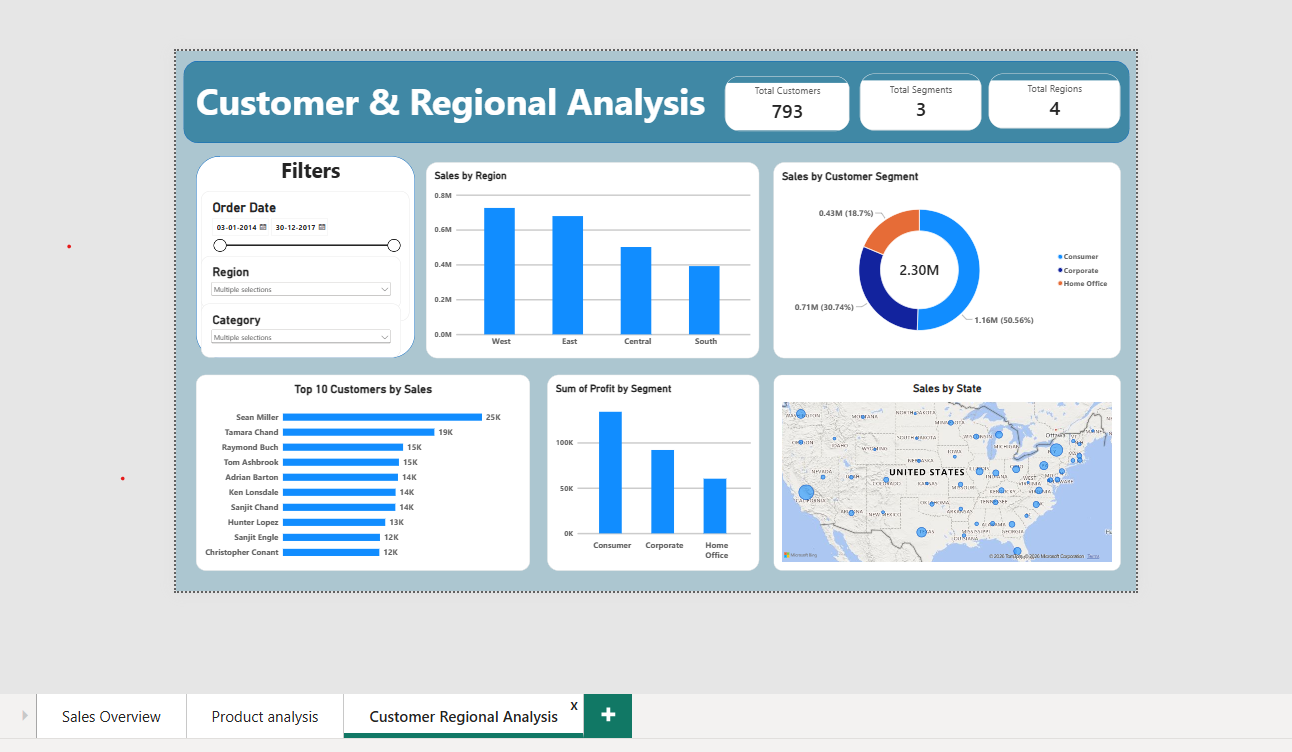

Layout of this report page (visuals, bound fields, positions):
{"tool":"powerbi","page":{"name":"Customer  Regional Analysis","canvas":[1920,1080],"ordinal":2},"visuals":[{"type":"shape","box":[40,210,438,404],"z":0,"group":"g2"},{"type":"shape","box":[14,20,1892,164],"z":1,"group":"g1"},{"type":"textbox","box":[40,50,1058,114],"z":2,"group":"g1"},{"type":"textbox","box":[10,0,280,280],"z":1000},{"type":"group","id":"g1","title":"Group 1","box":[14,20,1892,164],"z":2000},{"type":"cardVisual","fields":{"Data":["Count(Sample - Superstore.Customer ID)"]},"box":[1098,50,250,110],"z":3000},{"type":"cardVisual","fields":{"Data":["Count(Sample - Superstore.Region)"]},"box":[1626,46,264,110],"z":4000},{"type":"cardVisual","fields":{"Data":["Count(Sample - Superstore.Segment)"]},"box":[1368,46,244,114],"z":5000},{"type":"clusteredBarChart","title":"Top 10 Customers by Sales","fields":{"Category":["Sample - Superstore.Customer Name"],"Y":["Sum(Sample - Superstore.Sales)"]},"box":[40,648,668,392],"z":6000},{"type":"donutChart","title":"Sales by Customer Segment","fields":{"Category":["Sample - Superstore.Segment"],"Y":["Sum(Sample - Superstore.Sales)"]},"box":[1196,222,694,392],"z":7000},{"type":"map","title":"Sales by State","fields":{"Category":["Sample - Superstore.State"],"Size":["Sum(Sample - Superstore.Sales)"]},"box":[1196,648,694,392],"z":8000},{"type":"clusteredColumnChart","title":"Sales by Region","fields":{"Category":["Sample - Superstore.Region"],"Y":["Sum(Sample - Superstore.Sales)"]},"box":[500,222,666,392],"z":9000},{"type":"clusteredColumnChart","fields":{"Category":["Sample - Superstore.Segment"],"Y":["Sum(Sample - Superstore.Profit)"]},"box":[742,648,424,392],"z":10000},{"type":"slicer","fields":{"Values":["Sample - Superstore.Order Date"]},"box":[50.5,280,417,260],"z":11000,"group":"g2"},{"type":"slicer","fields":{"Values":["Sample - Superstore.Region"]},"box":[50.5,410,400,106],"z":12000,"group":"g2"},{"type":"slicer","fields":{"Values":["Sample - Superstore.Category"]},"box":[50.5,506,400,108],"z":13000,"group":"g2"},{"type":"group","id":"g2","title":"Group 2","box":[40,210,438,404],"z":13001}]}

Visuals, with their boxes on the page's 1920x1080 design canvas (x1, y1, x2, y2). These are canvas units, not pixel positions in the 1292x752 screenshot, which may show the page scaled, cropped or inside an application window:
shape: locate(40, 210, 478, 614)
shape: locate(14, 20, 1906, 184)
textbox: locate(40, 50, 1098, 164)
textbox: locate(10, 0, 290, 280)
"Group 1" group: locate(14, 20, 1906, 184)
cardVisual - Count(Sample - Superstore.Customer ID): locate(1098, 50, 1348, 160)
cardVisual - Count(Sample - Superstore.Region): locate(1626, 46, 1890, 156)
cardVisual - Count(Sample - Superstore.Segment): locate(1368, 46, 1612, 160)
"Top 10 Customers by Sales" clusteredBarChart: locate(40, 648, 708, 1040)
"Sales by Customer Segment" donutChart: locate(1196, 222, 1890, 614)
"Sales by State" map: locate(1196, 648, 1890, 1040)
"Sales by Region" clusteredColumnChart: locate(500, 222, 1166, 614)
clusteredColumnChart - Sample - Superstore.Segment x Sum(Sample - Superstore.Profit): locate(742, 648, 1166, 1040)
slicer - Sample - Superstore.Order Date: locate(50, 280, 468, 540)
slicer - Sample - Superstore.Region: locate(50, 410, 450, 516)
slicer - Sample - Superstore.Category: locate(50, 506, 450, 614)
"Group 2" group: locate(40, 210, 478, 614)
